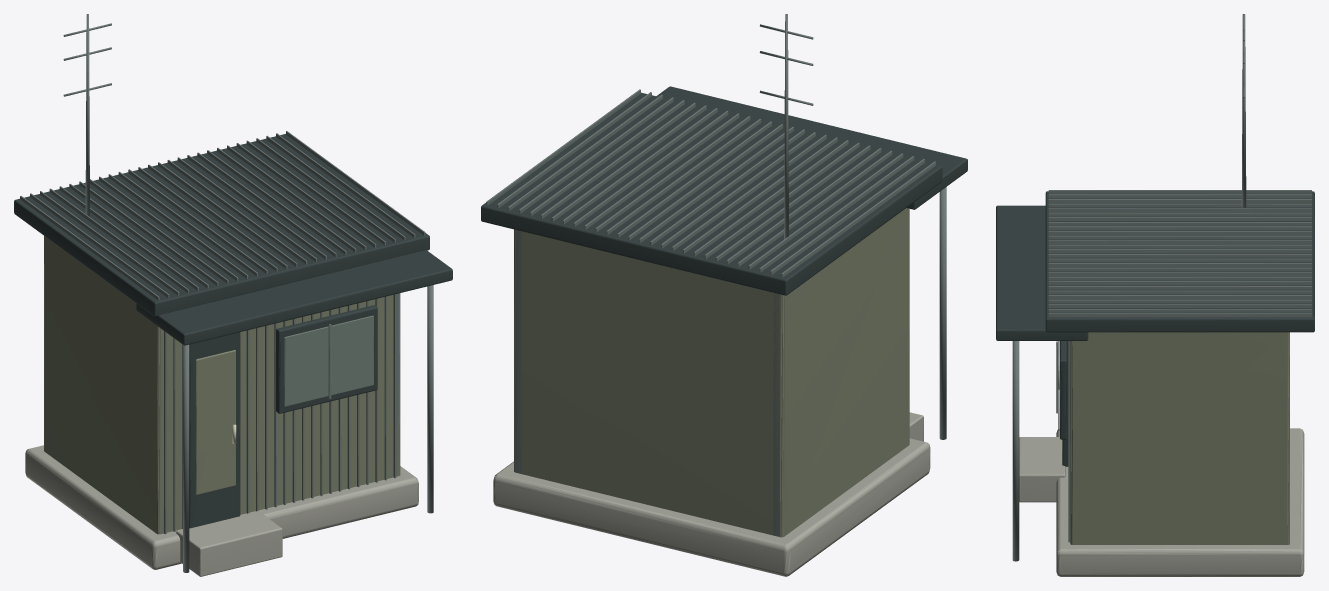
Rendered from lab.glb.
3 views of the same model, side by side, from view 1: azimuth 30°, elevation 25°; view 2: azimuth 150°, elevation 25°; view 3: azimuth 270°, elevation 25° (orthographic). The views are drawn at different scales.
Parts seen in each view (by area): view 1: FieldStation; view 2: FieldStation; view 3: FieldStation.
Part boxes in pixels (x1,y1,x2,y2): FieldStation: (14, 14, 452, 576); FieldStation: (481, 14, 967, 576); FieldStation: (996, 14, 1314, 576).
Bounding box in the file's own units: 1.88 × 3.12 × 1.98.
